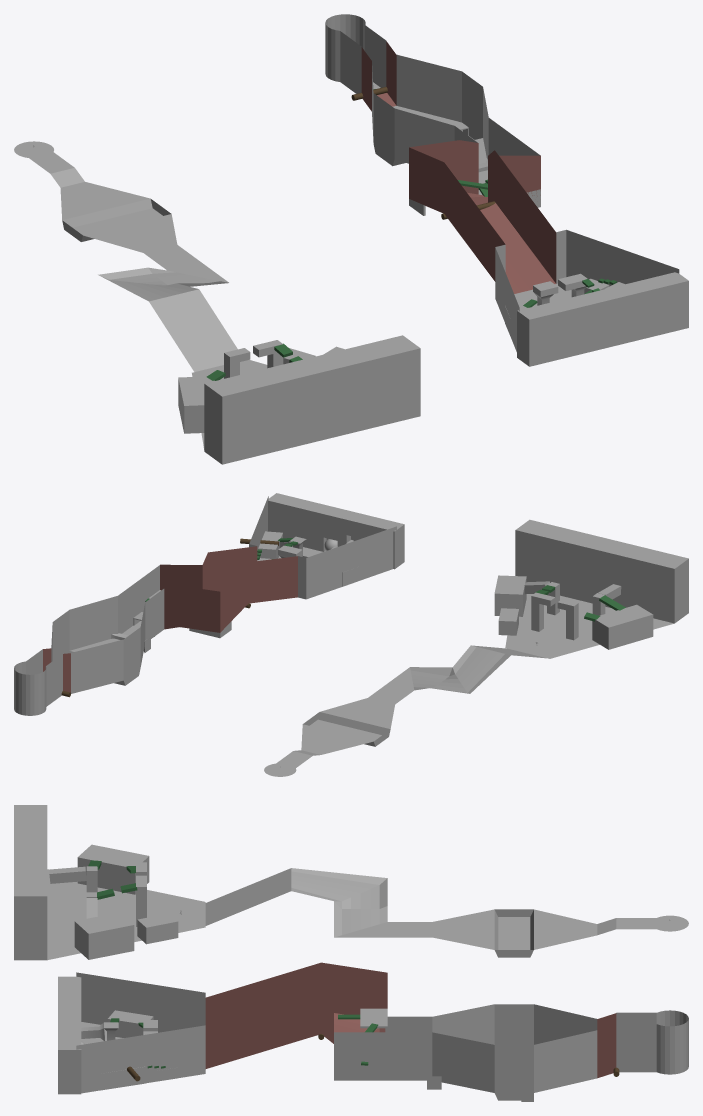
File: JungleLevel_BlockoutTest.fbx
3 views of the same model, one above another, from view 1: azimuth 30°, elevation 25°; view 2: azimuth 150°, elevation 25°; view 3: azimuth 270°, elevation 25° (orthographic). The views are drawn at different scales.
Parts seen in each view (by area): view 1: MudRamp2 (×2), pCube17, StartSection, Temple_Entrance, pDisc2, Final_Section1, pCube1, MudRamp1; view 2: MudRamp2 (×2), StartSection, pCube17, Final_Section1 (×2), pDisc2, Temple_Entrance, pCube1, pCube11 (×2), pCube10, MudRamp1; view 3: StartSection, MudRamp2 (×2), Final_Section1 (×2), pDisc2, pCube17, pCube11 (×2), Temple_Entrance, pCube1 (×2), MudRamp1, pCube10, pCube14, pCube28.
Boxes of the visible parts, <box> form: MudRamp2 (×2): <box>98,140,556,371</box>; pCube17: <box>204,335,420,464</box>; StartSection: <box>325,14,540,195</box>; Temple_Entrance: <box>517,272,688,366</box>; pDisc2: <box>14,141,228,282</box>; Final_Section1: <box>495,229,679,351</box>; pCube1: <box>178,376,214,433</box>; MudRamp1: <box>361,41,396,111</box>; MudRamp2 (×2): <box>160,546,546,693</box>; StartSection: <box>14,565,164,715</box>; pCube17: <box>515,519,688,623</box>; Final_Section1 (×2): <box>249,496,673,658</box>; pDisc2: <box>264,667,414,776</box>; Temple_Entrance: <box>268,493,404,569</box>; pCube1: <box>592,604,653,649</box>; pCube11 (×2): <box>258,531,526,616</box>; pCube10: <box>498,608,518,635</box>; MudRamp1: <box>43,648,70,692</box>; StartSection: <box>334,1004,688,1100</box>; MudRamp2 (×2): <box>205,868,387,1068</box>; Final_Section1 (×2): <box>47,869,205,1093</box>; pDisc2: <box>334,909,688,957</box>; pCube17: <box>14,805,47,960</box>; pCube11 (×2): <box>74,912,145,1090</box>; Temple_Entrance: <box>58,976,81,1094</box>; pCube1 (×2): <box>77,844,153,1037</box>; MudRamp1: <box>597,1013,616,1078</box>; pCube10: <box>137,913,178,944</box>; pCube14: <box>49,866,86,883</box>; pCube28: <box>360,1008,387,1028</box>.
Size of the model in its own units: 19876 by 3335 by 23917.
